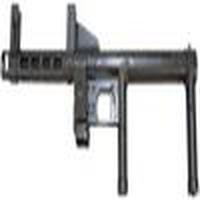gun: (1, 23, 200, 115)
